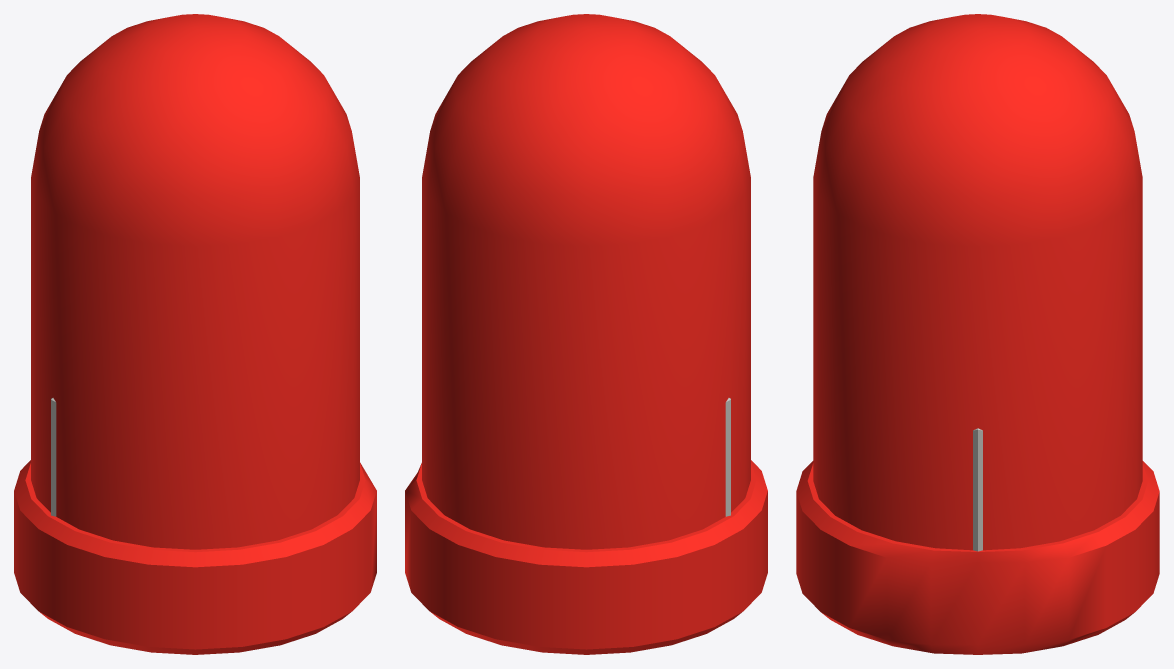
Rendered from led-3mm.glb.
3 renders of one model, left to right at view 1: azimuth 30°, elevation 25°; view 2: azimuth 150°, elevation 25°; view 3: azimuth 270°, elevation 25°, orthographic.
Parts seen in each view (by area): view 1: body; view 2: body; view 3: body.
Part boxes in pixels (<box>): body: <box>14,14,376,654</box>; body: <box>405,14,767,654</box>; body: <box>796,14,1159,654</box>.
Size of the model in its own units: 3.08 by 5.4 by 3.2.
